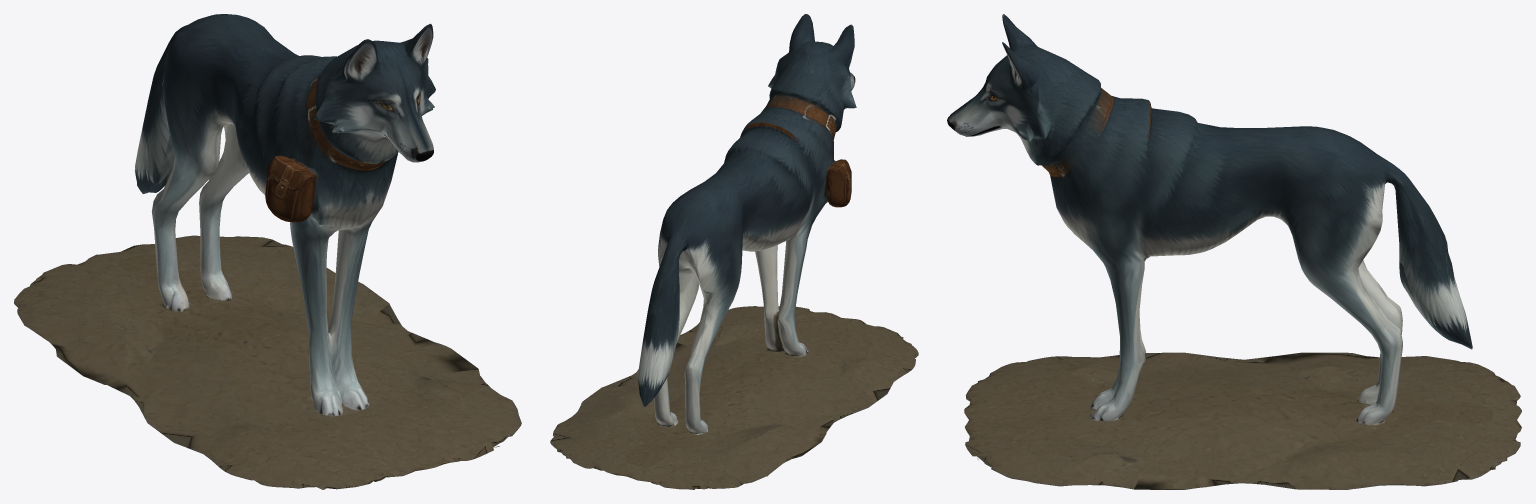
Rendered from pet_hound.glb.
The picture shows the model from 3 angles, left to right: view 1: azimuth 30°, elevation 25°; view 2: azimuth 150°, elevation 25°; view 3: azimuth 270°, elevation 25°; orthographic projection. The views are drawn at different scales.
Bounding box in the file's own units: 1.04 × 1.39 × 1.84.
Materials: 1 (1 with a texture image).
